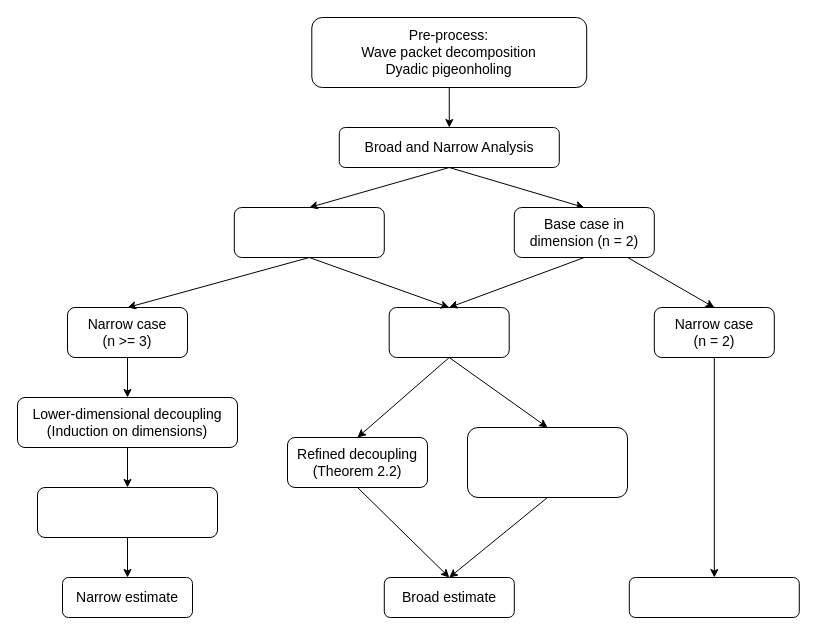
Some shapes in this 817 by 635 pixel diagram are drawn without their labels. Here are the shapes that lost their labels. From the top down, the centre of each, then its label:
point 308,232: Higher dimensions (n >= 3)
point 448,332: Broad case (Transversality)
point 547,462: Mulitilinear Kakeya Multilinear restriction (Lemma 2.3)
point 127,512: Parabolic rescaling (Induction on scales)
point 713,597: Direct narrow estimate
